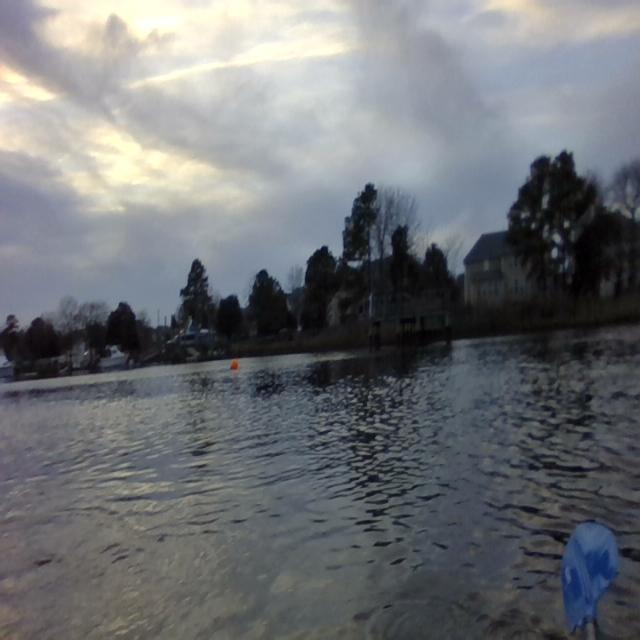Buoy: (230, 358, 239, 371)
